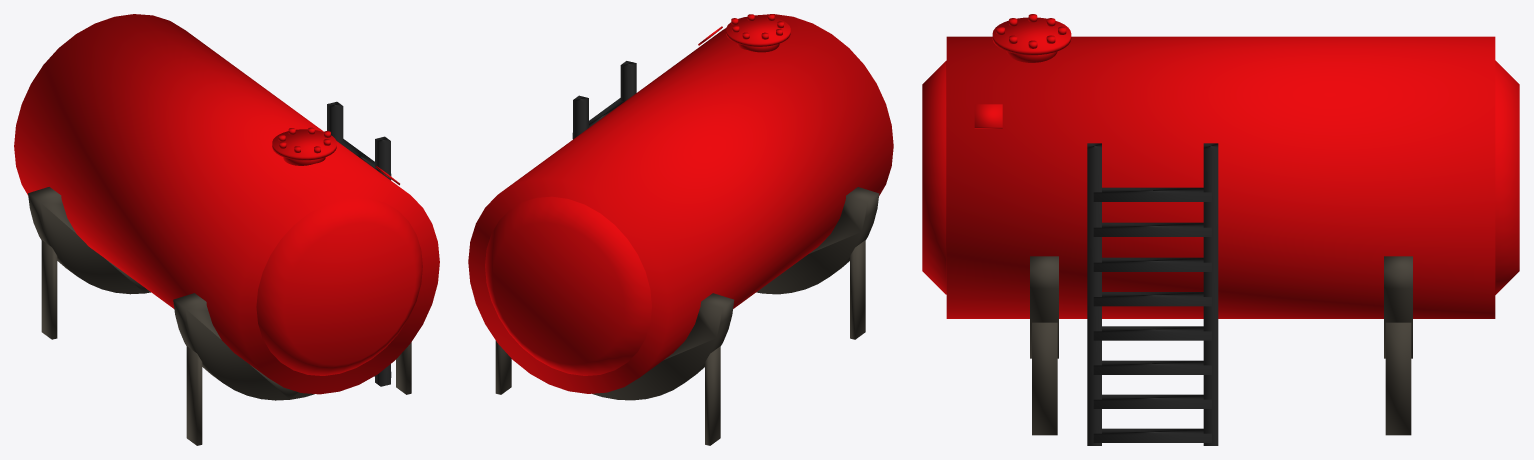
File: gas.fbx
3 views of the same model, side by side, from view 1: azimuth 30°, elevation 25°; view 2: azimuth 150°, elevation 25°; view 3: azimuth 270°, elevation 25° (orthographic). The views are drawn at different scales.
Parts seen in each view (by area): view 1: Цилиндр, Подставка, Лестница; view 2: Цилиндр, Подставка, Лестница; view 3: Цилиндр, Лестница, Подставка.
Part boxes in pixels (<box>): Цилиндр: <box>14,14,439,394</box>; Подставка: <box>28,187,411,445</box>; Лестница: <box>327,101,391,386</box>; Цилиндр: <box>468,14,893,393</box>; Подставка: <box>495,187,879,445</box>; Лестница: <box>572,61,636,139</box>; Цилиндр: <box>922,14,1519,318</box>; Лестница: <box>1087,143,1218,445</box>; Подставка: <box>1030,256,1412,435</box>.
Size of the model in its own units: 144 by 165 by 254.
